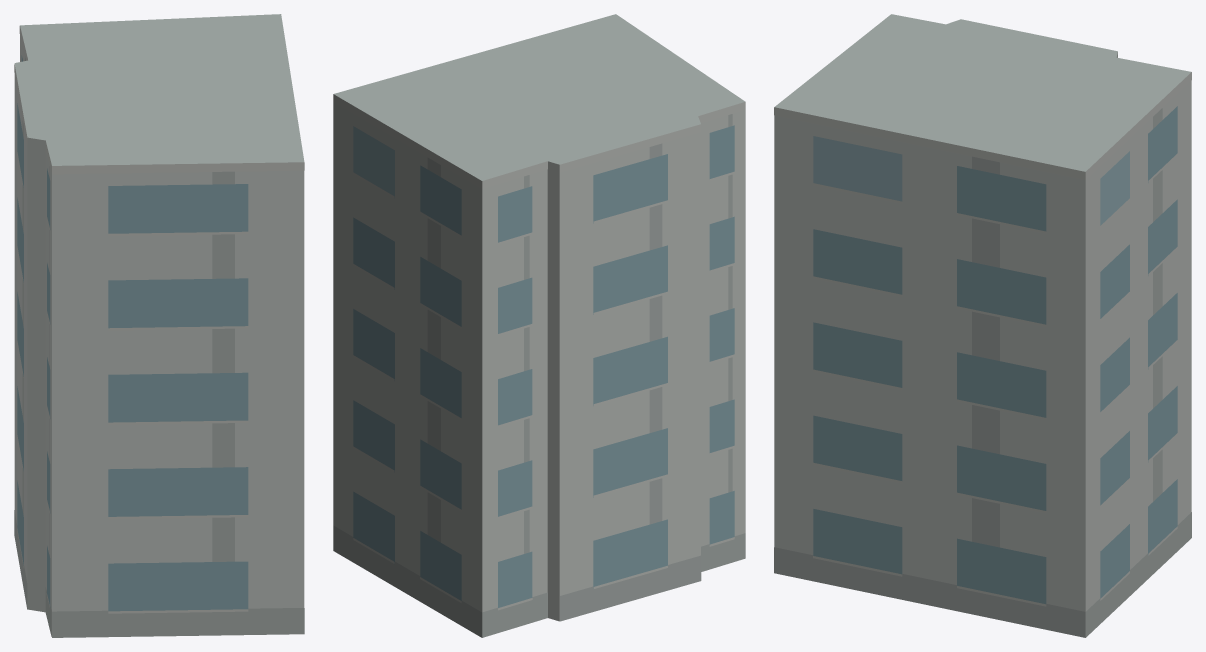
Rendered from survey-upis-32728730.glb.
3 renders of one model, left to right at view 1: azimuth 30°, elevation 25°; view 2: azimuth 150°, elevation 25°; view 3: azimuth 270°, elevation 25°, orthographic. The views are drawn at different scales.
Parts seen in each view (by area): view 1: survey-upis-32728730.tmp; view 2: survey-upis-32728730.tmp; view 3: survey-upis-32728730.tmp.
Part boxes in pixels (x1=…): survey-upis-32728730.tmp: x1=14, y1=14, x2=304, y2=637; survey-upis-32728730.tmp: x1=333, y1=14, x2=745, y2=637; survey-upis-32728730.tmp: x1=774, y1=14, x2=1191, y2=637.
Size of the model in its own units: 9.96 by 13.7 by 11.13.
